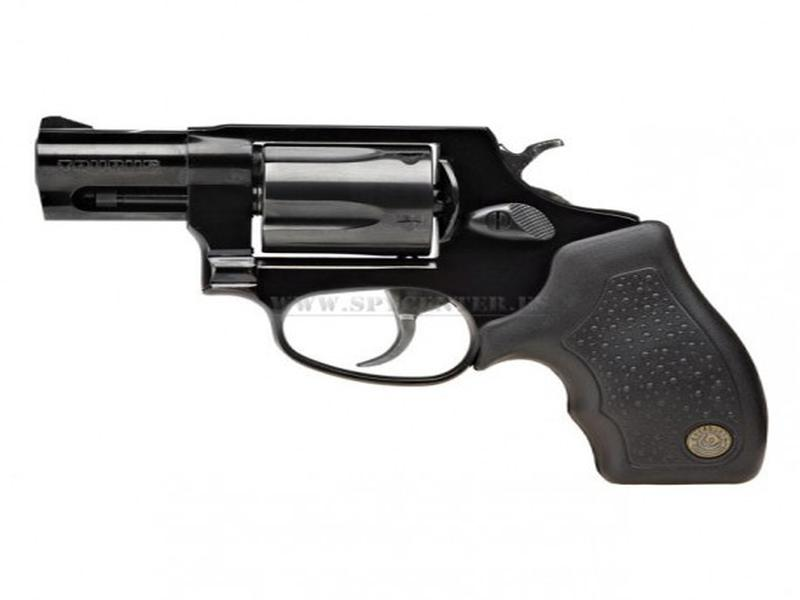Revolver: (24, 49, 779, 514)
